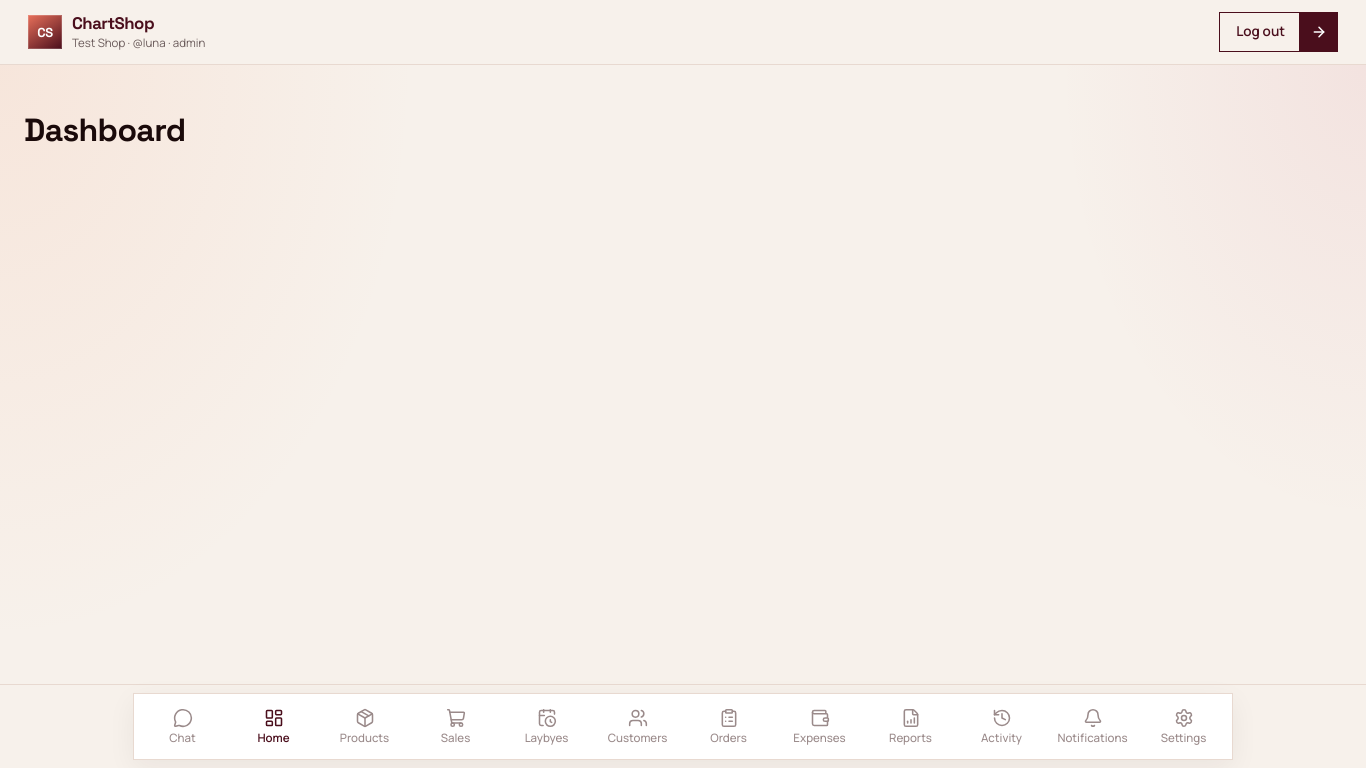
Scenario: scroll behaviour › AppLayout › resets main scroll when switching between primary task tabs
(page scrolled)
Click the link "Products": (364, 727) [340,708,389,745]
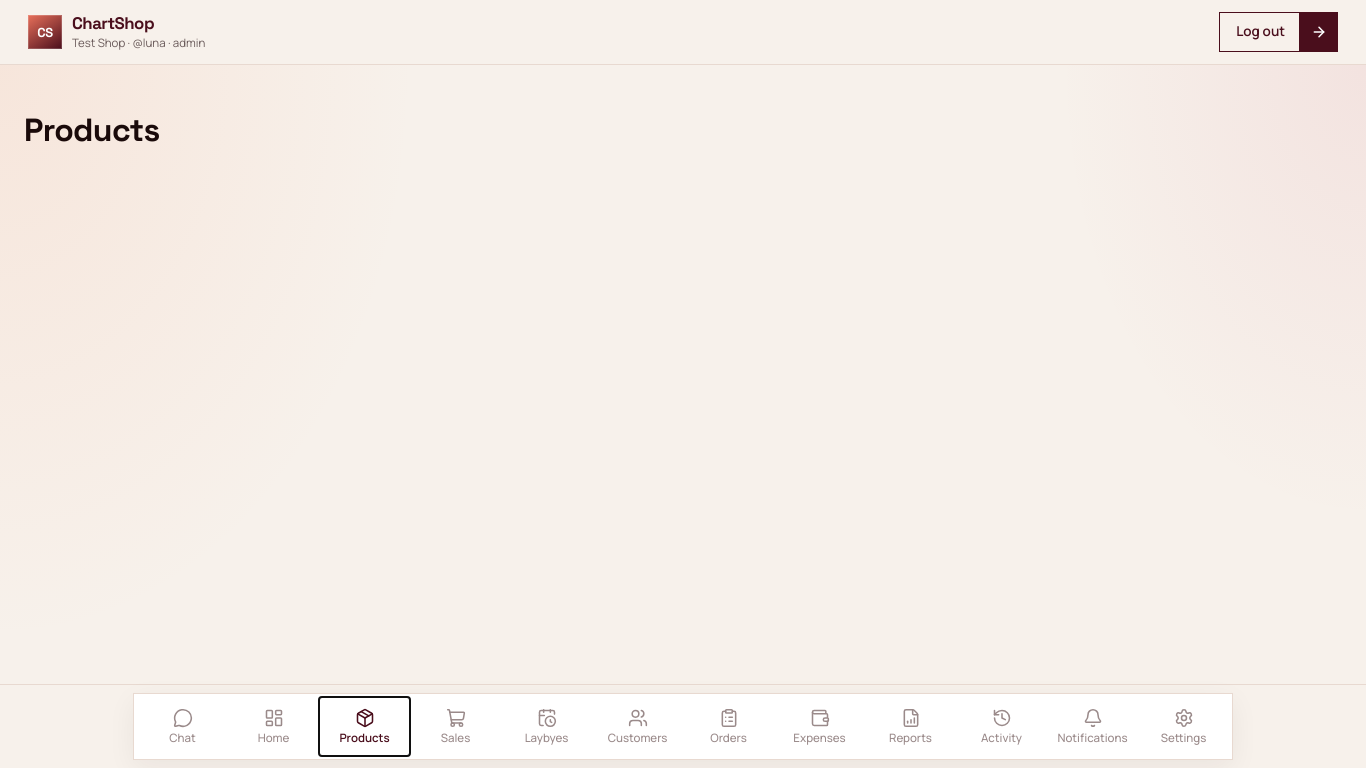
expect the heading "Products" is shown: met, box [24,110,160,150]
Click the link "Sales": (455, 727) [441,708,470,745]
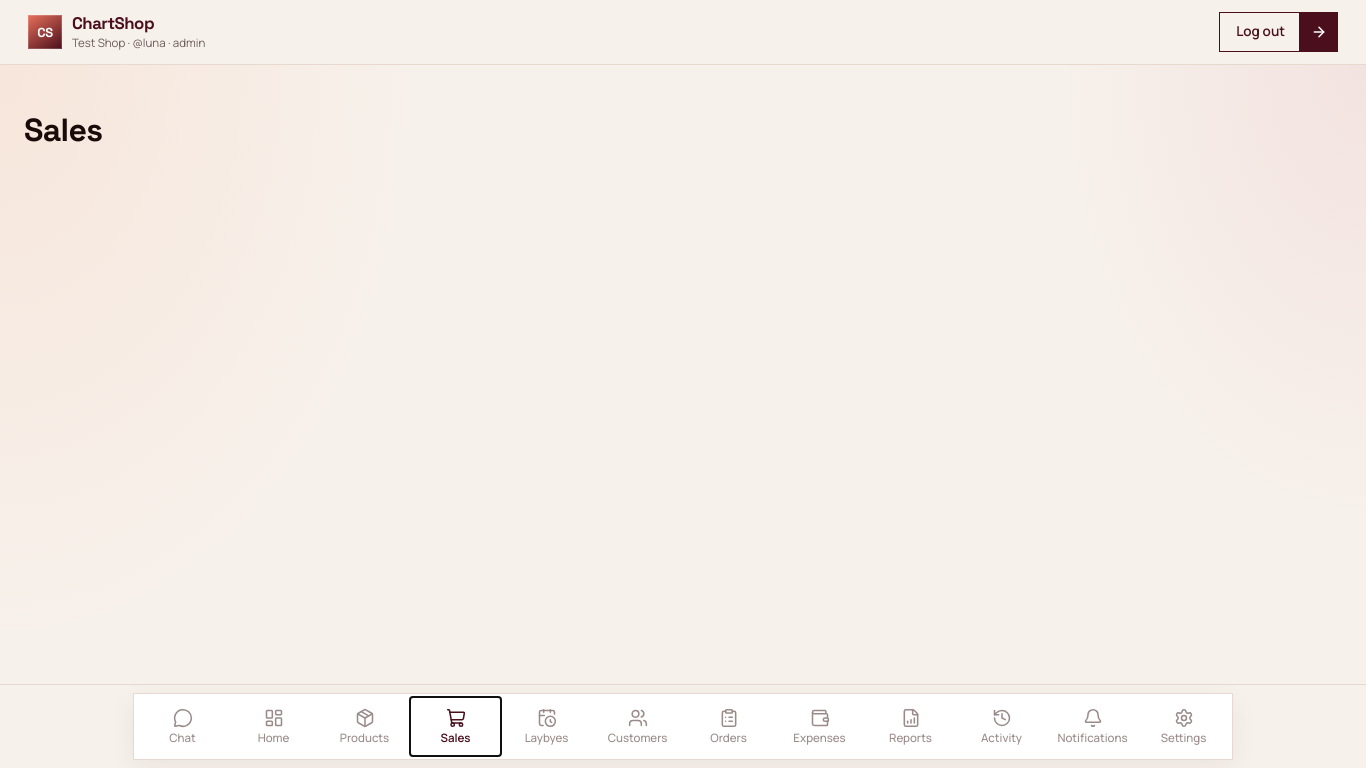
expect the heading "Sales" is shown: met, box [24,110,102,150]
Click the link "Home": (274, 727) [258,708,289,745]
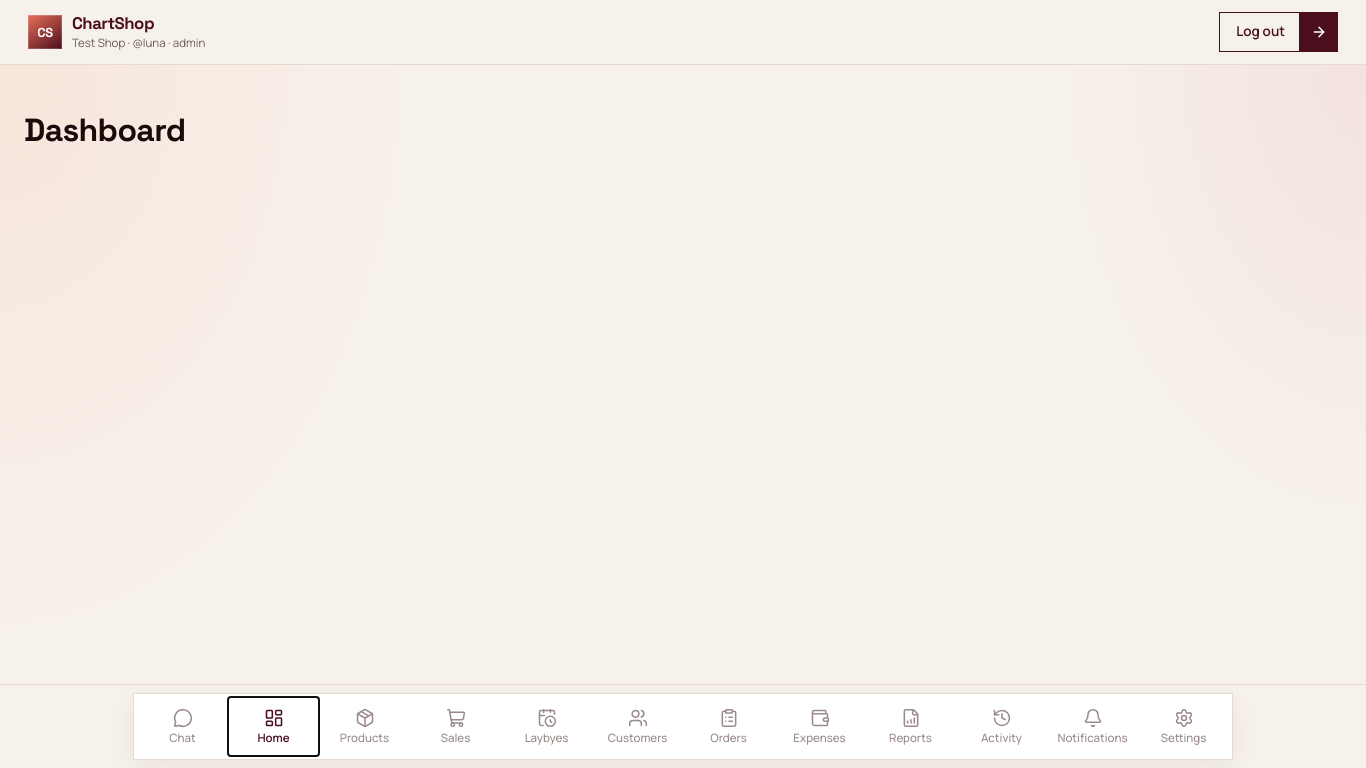
expect the heading "Dashboard" is shown: met, box [24,110,185,150]
